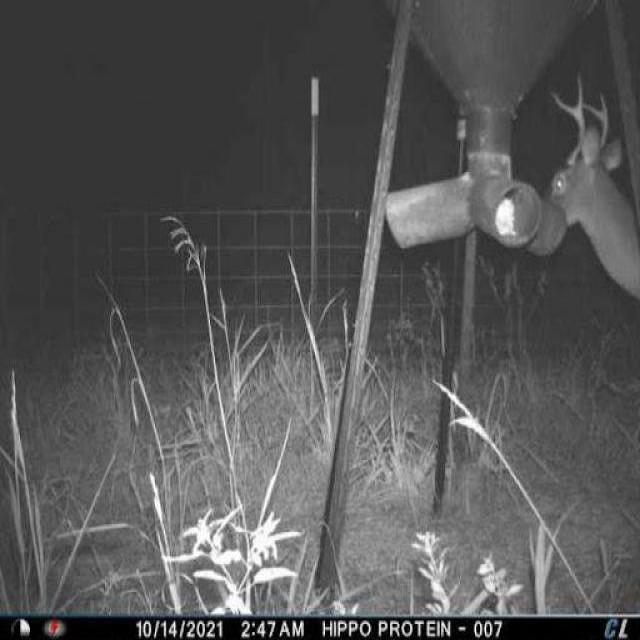deer: (542, 66, 640, 313)
